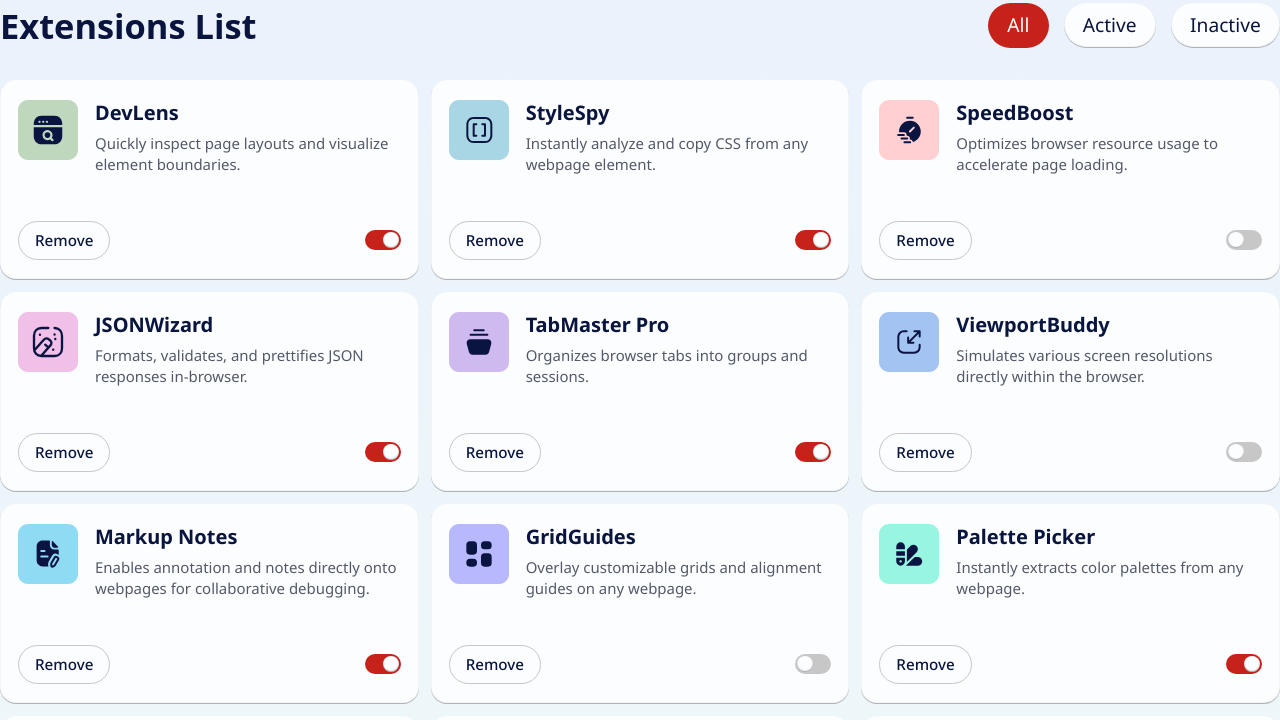
Test: Filter flow › applies filters correctly and enforces single selection
Click the button "active". click: (1110, 26)
box: [1064, 3, 1156, 48]
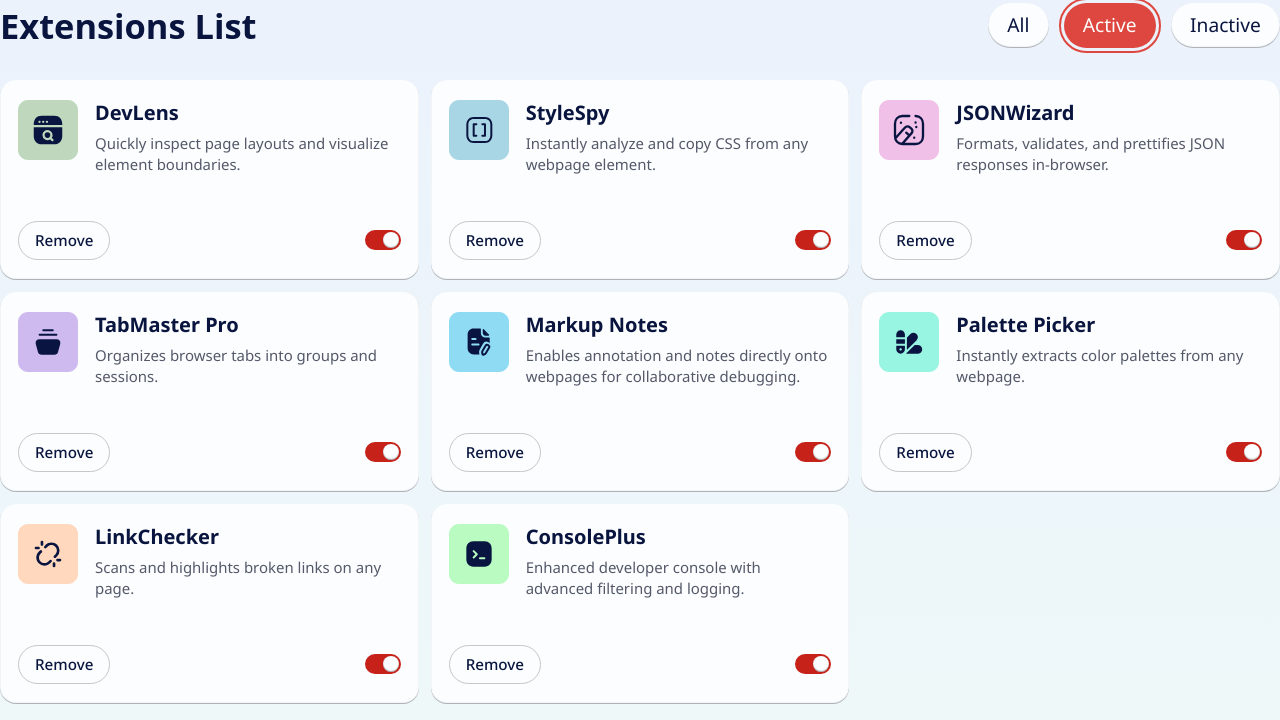
Expected: the button "active" is pressed, [1064, 3, 1156, 48]
Expected: the button "all" is not pressed, [988, 3, 1048, 48]
Click the button "inactive". click: (1225, 26)
box: [1171, 3, 1279, 48]
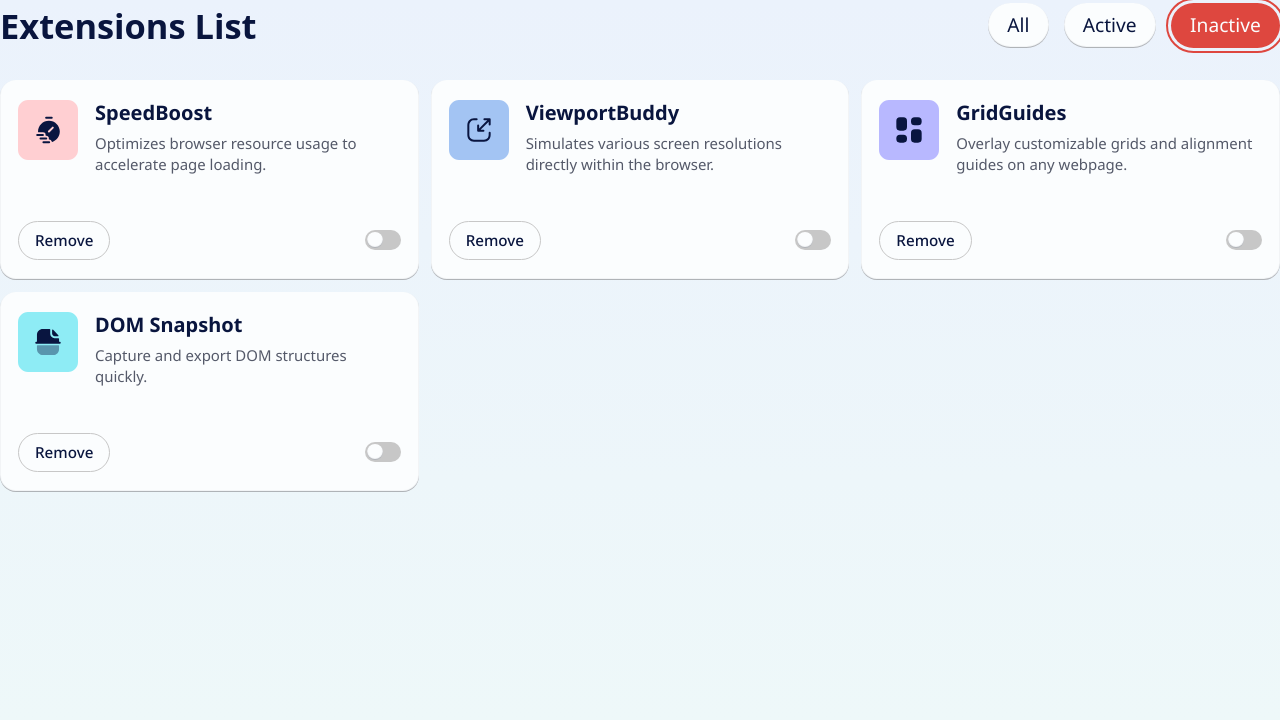
Expected: the button "active" is not pressed, [1064, 3, 1156, 48]
Expected: the button "inactive" is pressed, [1171, 3, 1279, 48]
Expected: the button "all" is not pressed
Click the button "all". click: (1018, 26)
box: [988, 3, 1048, 48]
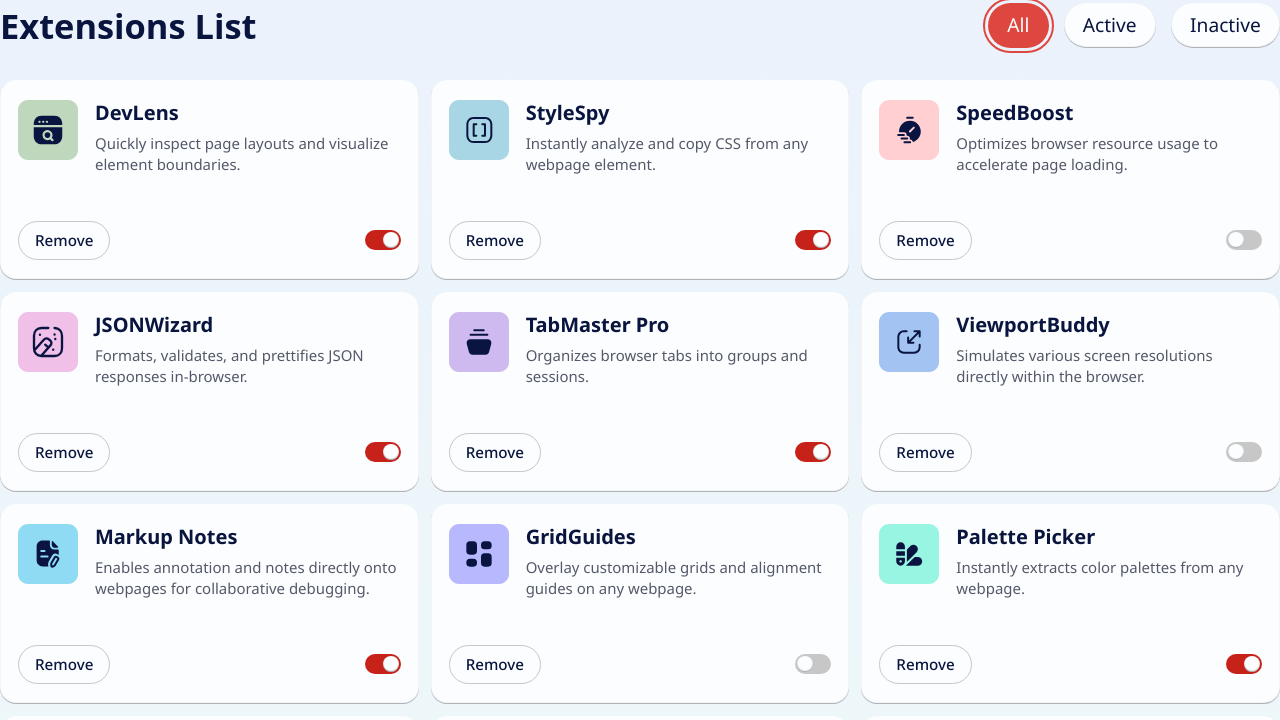
Expected: the number of buttons named "Toggle DevLens active status" is 12
